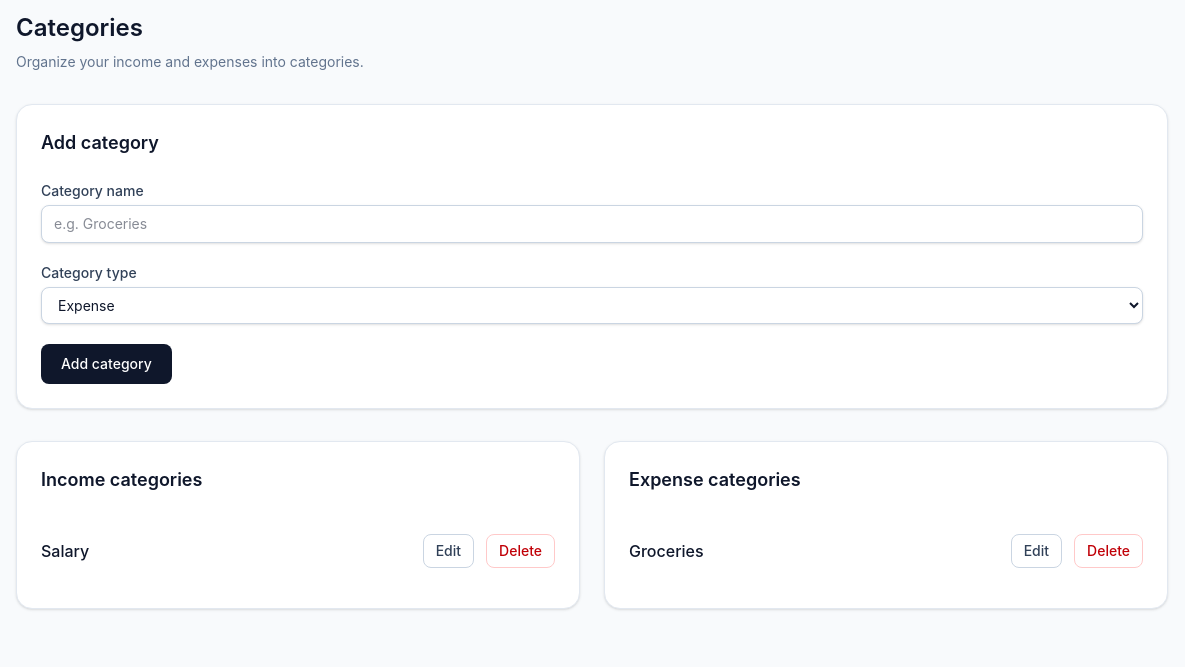
Scenario: CategoriesPage › creates a category with the entered name and selected type
Type "  Freelance income  " into the field labelled "Category name" at point(592, 224), box [41,205,1143,243]
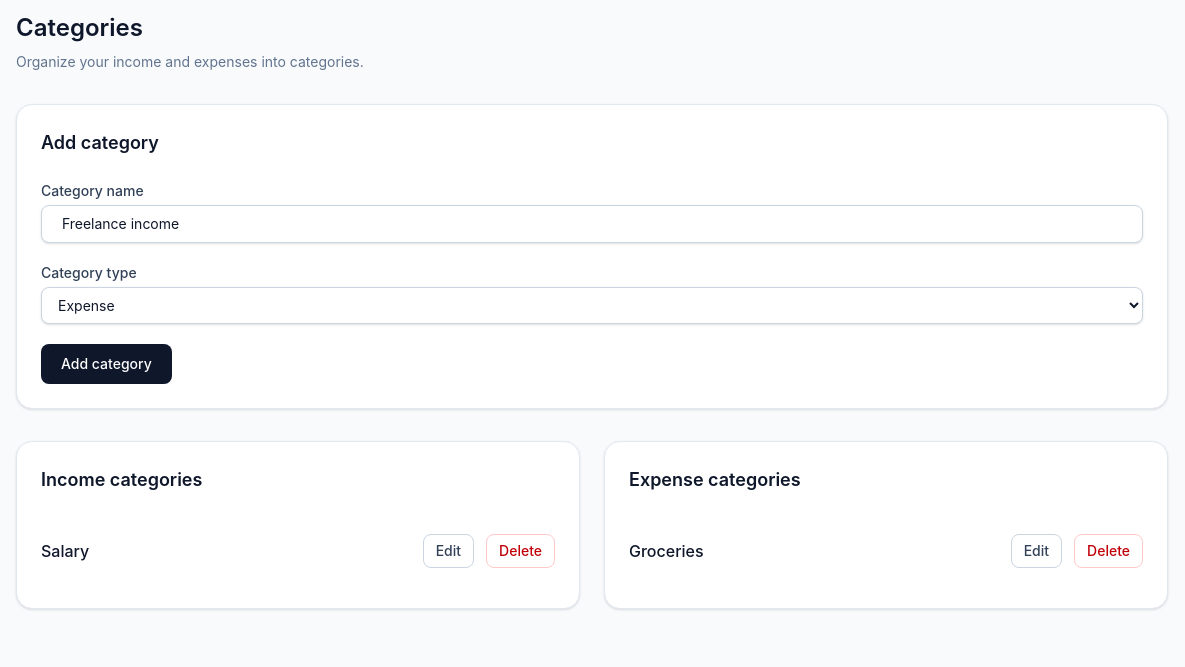
Select "Income" in the dropdown labelled "Category type" at point(592, 306), box [41,287,1143,324]
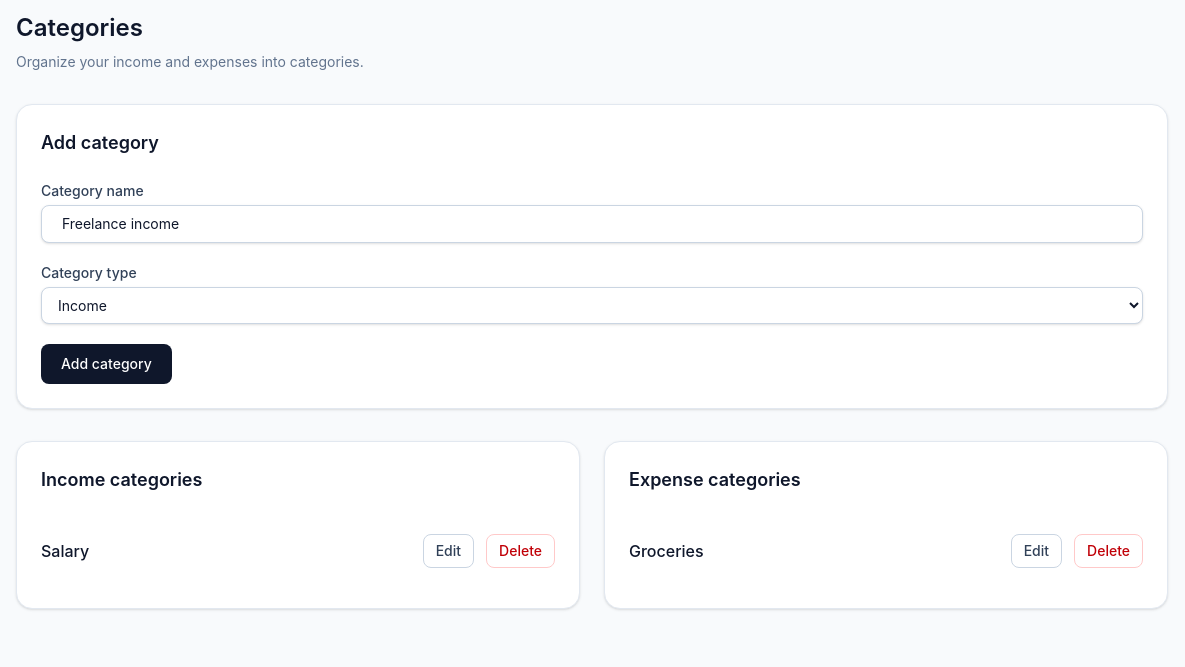
Click the button "Add category" at point(106, 364), box [41,344,172,384]
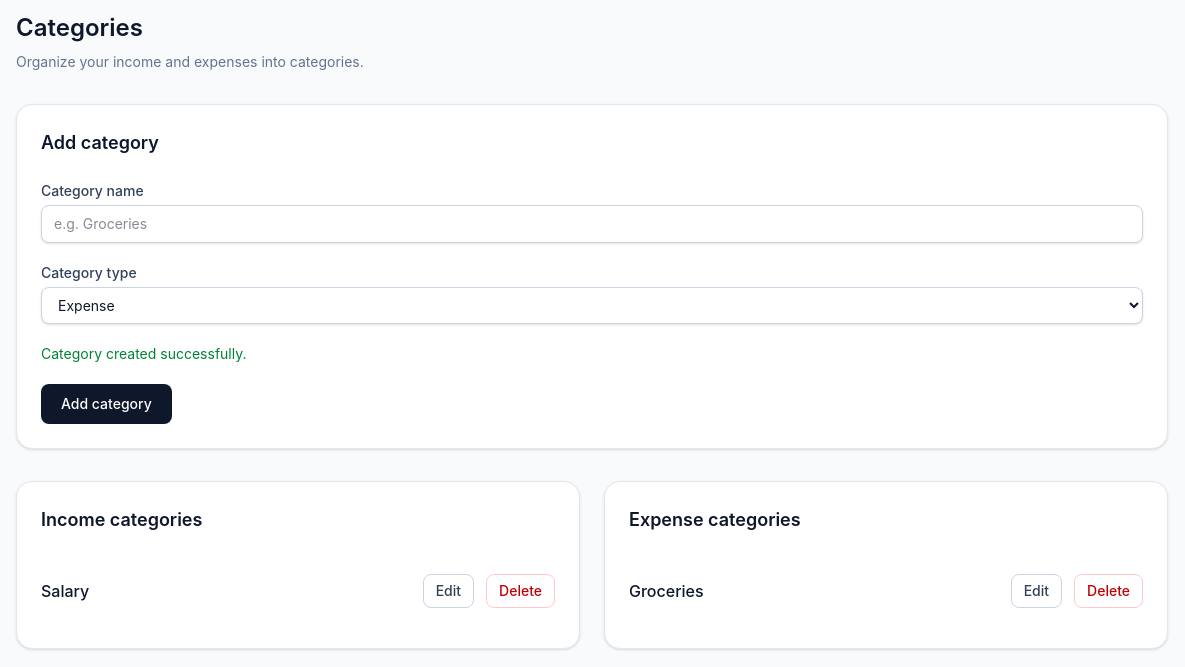
expect the message reads "Category created successfully.": met, box [41,345,246,362]
